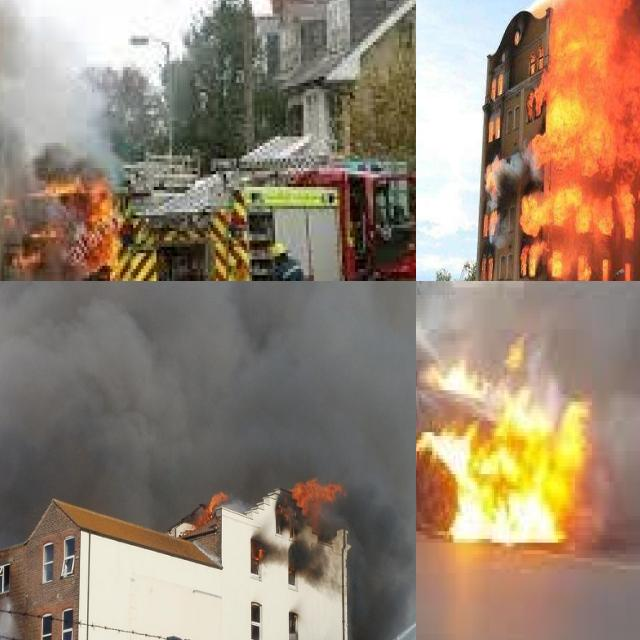fire: (416, 344, 598, 569), (519, 0, 640, 281), (0, 155, 133, 281), (286, 476, 342, 530), (201, 486, 225, 520), (251, 536, 265, 563)
smoke: (0, 281, 416, 542), (0, 0, 120, 209), (423, 281, 587, 398), (588, 281, 640, 535), (348, 500, 405, 640), (286, 538, 328, 584)
